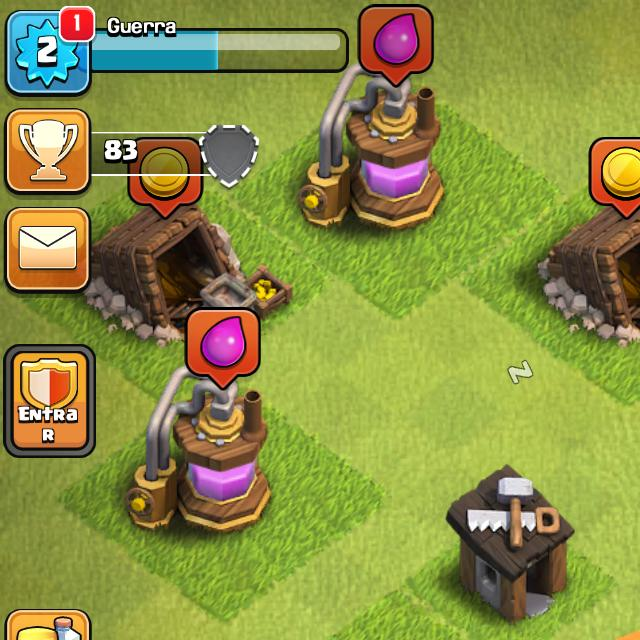FullCoin: (590, 138, 640, 222), (128, 176, 208, 217)
FullElixir: (358, 5, 436, 86), (185, 308, 259, 388)
